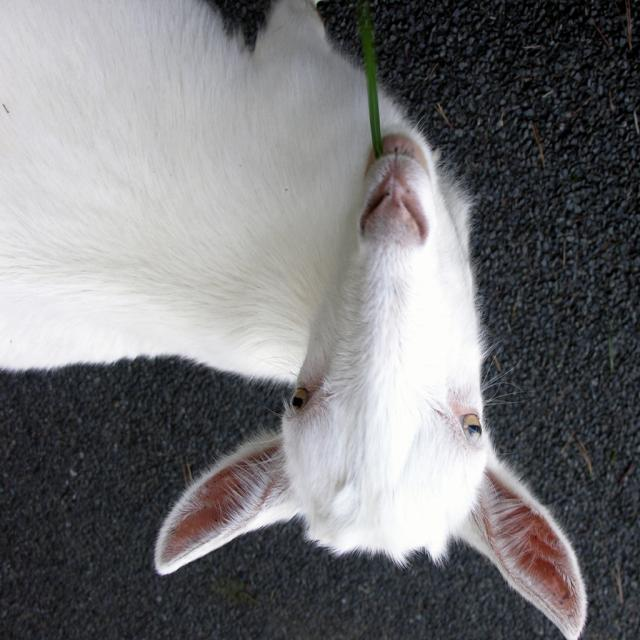Goat: (1, 2, 588, 639)
